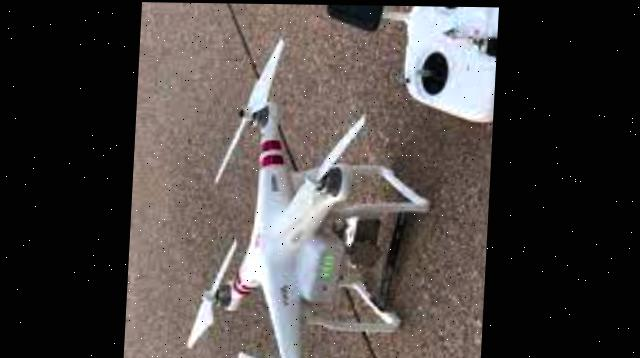drone: (188, 30, 430, 358)
